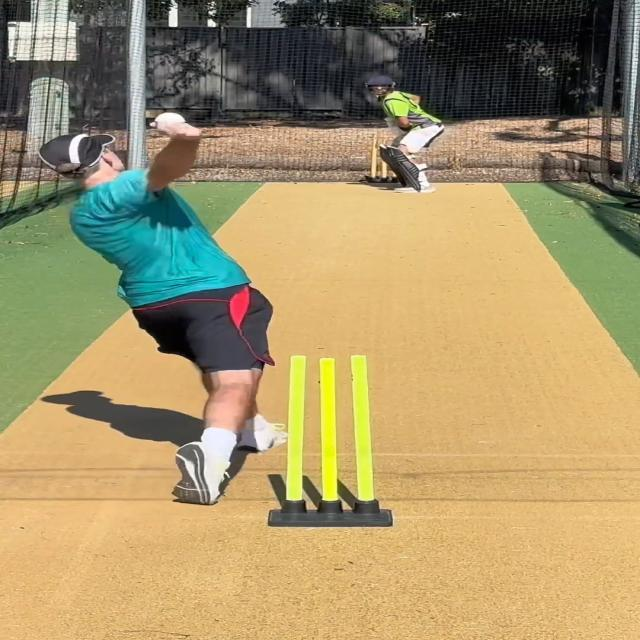stump: (268, 346, 395, 528), (366, 133, 403, 184)
